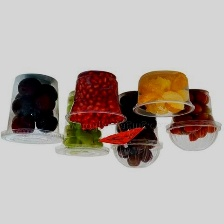glass: (0, 70, 68, 150), (106, 89, 165, 173), (52, 83, 113, 163), (64, 66, 129, 129), (163, 85, 224, 152), (128, 64, 197, 121)
